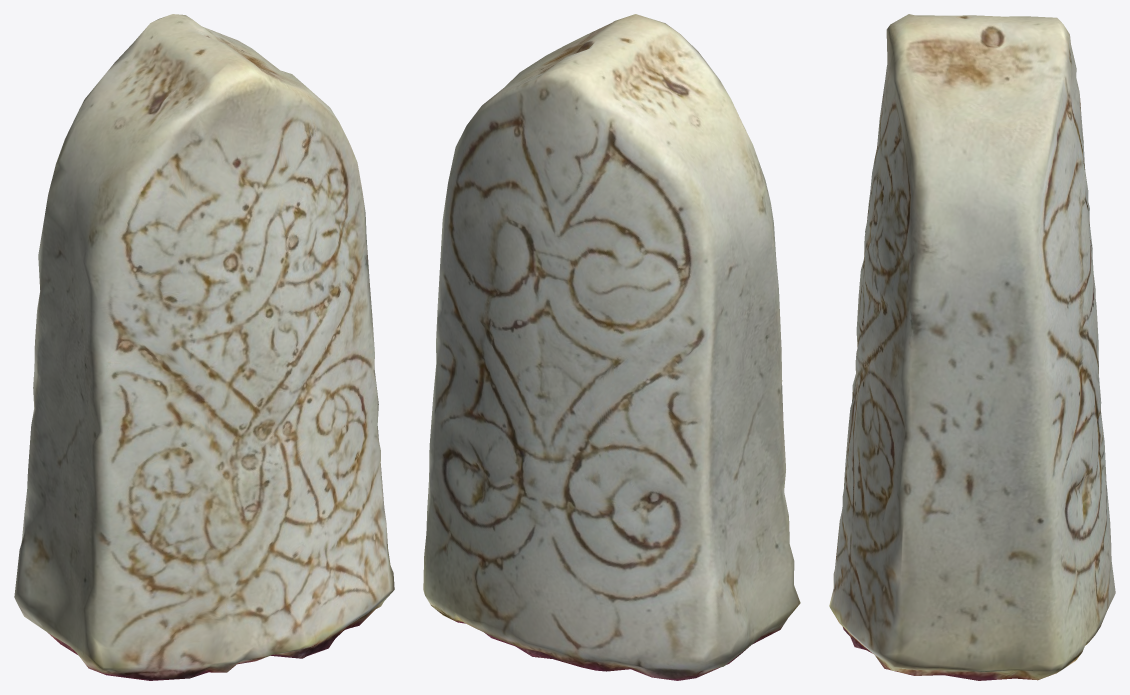
File: Pawn_white.glb
3 views of the same model, side by side, from view 1: azimuth 30°, elevation 25°; view 2: azimuth 150°, elevation 25°; view 3: azimuth 270°, elevation 25° (orthographic). The views are drawn at different scales.
Visible parts, largest first — view 1: Mesh_0; view 2: Mesh_0; view 3: Mesh_0.
Part boxes in pixels (x1=…): Mesh_0: x1=14, y1=14, x2=394, y2=680; Mesh_0: x1=423, y1=14, x2=800, y2=680; Mesh_0: x1=829, y1=14, x2=1115, y2=680.
Bounding box in the file's own units: 0.0241 × 0.043 × 0.0187.
1 material, 1 textured.
